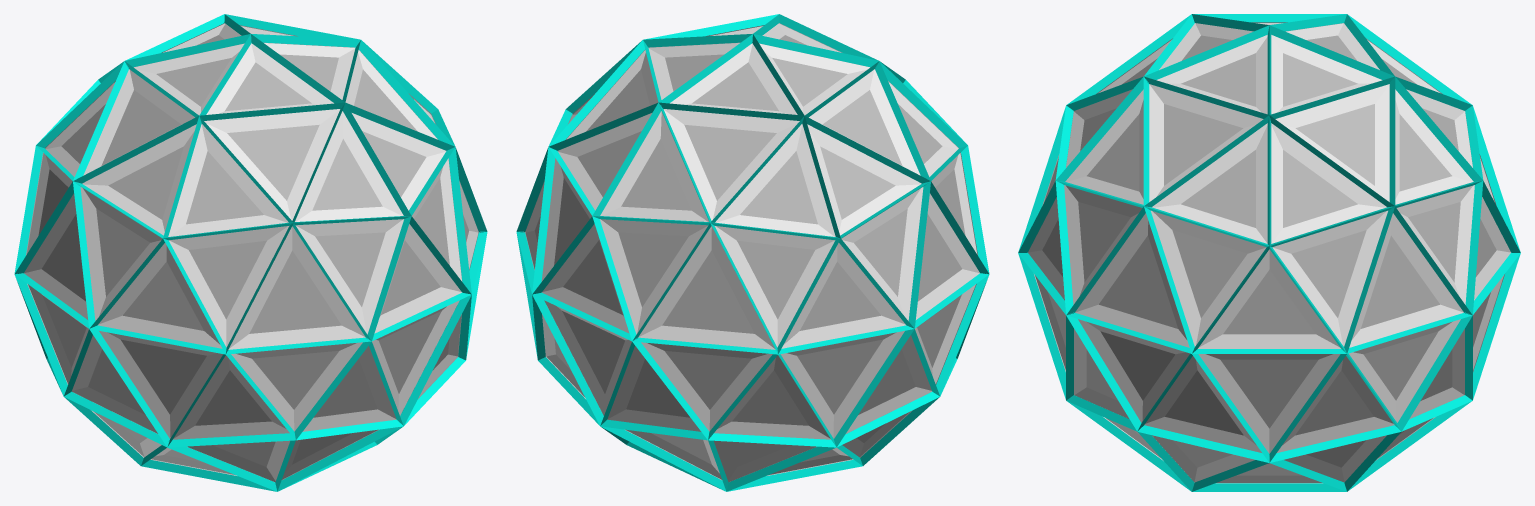
3 views of the same model, side by side, from view 1: azimuth 30°, elevation 25°; view 2: azimuth 150°, elevation 25°; view 3: azimuth 270°, elevation 25° (orthographic). The views are drawn at different scales.
Parts seen in each view (by area): view 1: Icosphere; view 2: Icosphere; view 3: Icosphere.
Boxes of the visible parts, box(x1,y1,x2,y2) form: Icosphere: box(14, 14, 487, 491); Icosphere: box(516, 14, 989, 491); Icosphere: box(1018, 14, 1520, 491).
Size of the model in its own units: 190 by 200 by 200.
